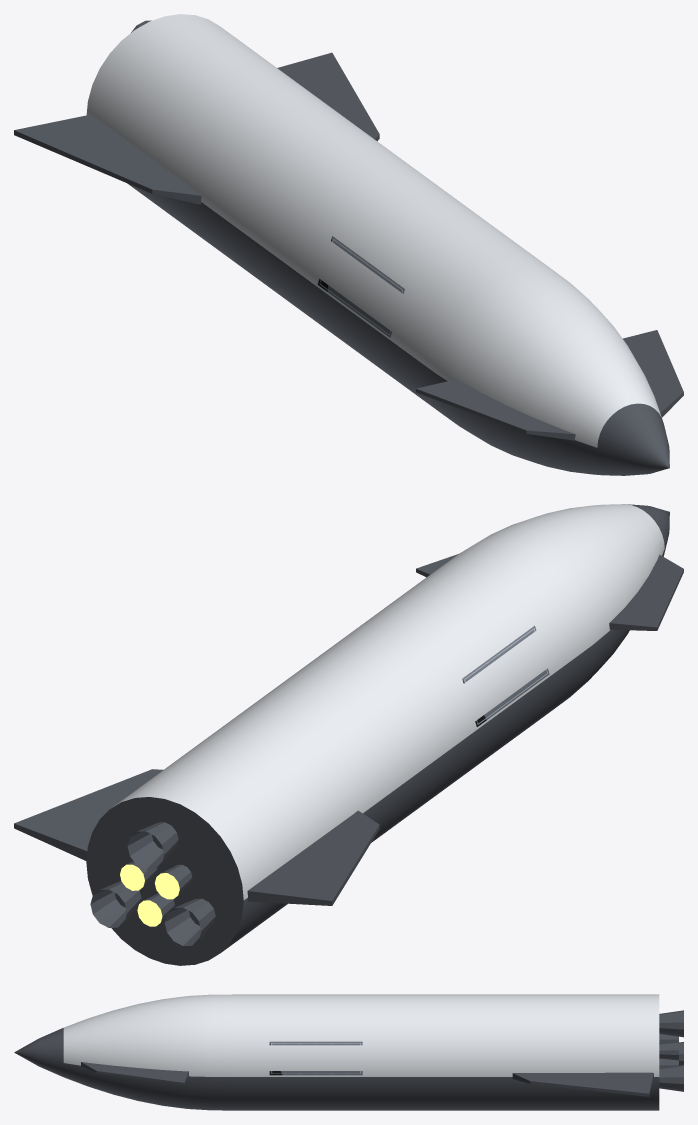
The model's file is starship_s42.glb.
The picture shows the model from 3 angles, top to bottom: view 1: azimuth 30°, elevation 25°; view 2: azimuth 150°, elevation 25°; view 3: azimuth 270°, elevation 25°; orthographic projection. The views are drawn at different scales.
Parts seen in each view (by area): view 1: Starship_S42; view 2: Starship_S42; view 3: Starship_S42.
Boxes of the visible parts, x1,y1,x2,y2 form: Starship_S42: (14,14,683,475); Starship_S42: (14,504,683,965); Starship_S42: (14,994,683,1110).
Size of the model in its own units: 18.2 by 9 by 51.9.
Materials: 4 (1 with a texture image).
